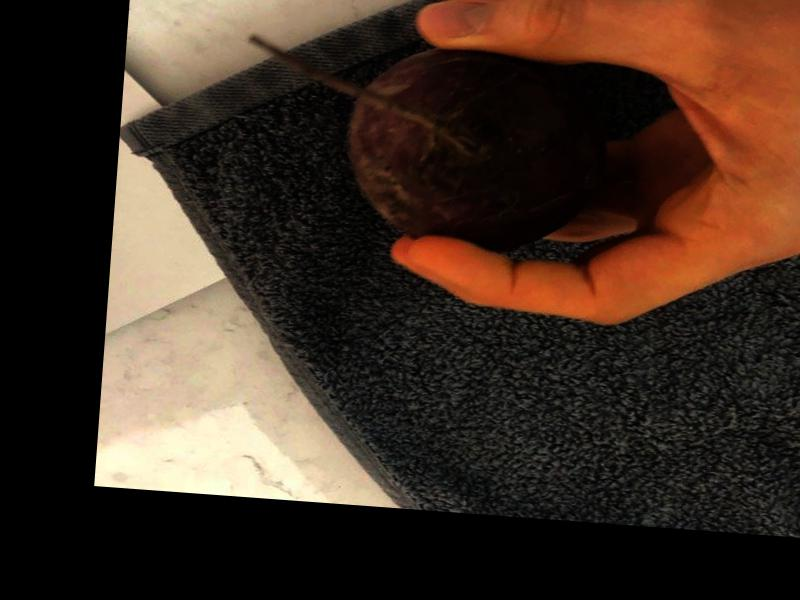Beet: (233, 33, 611, 258)
